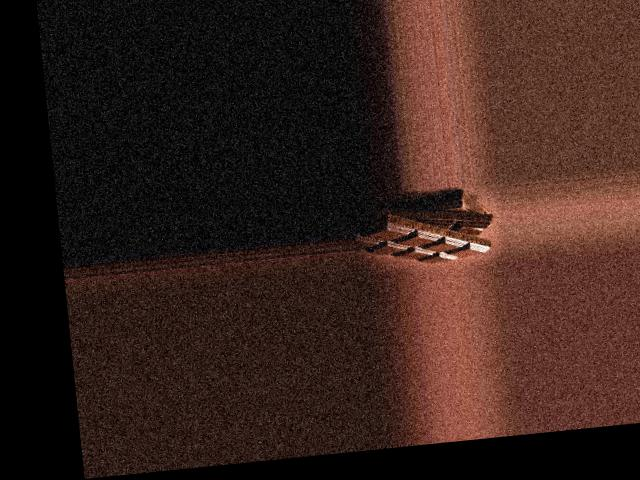chocolate: (357, 195, 495, 269)
